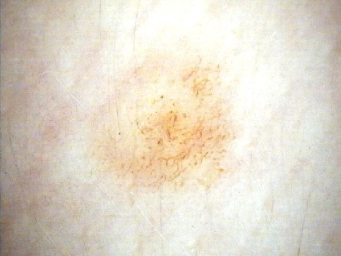melanoma: (91, 57, 239, 190)
